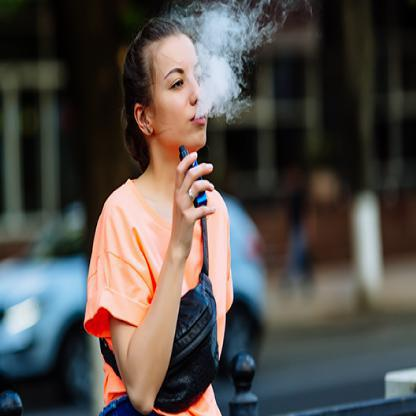person: (91, 16, 230, 415)
smoke: (194, 0, 255, 123)
